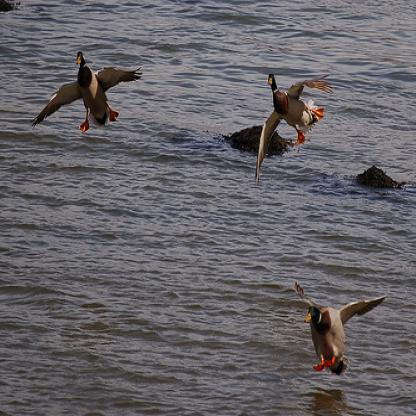bird: (32, 50, 143, 135), (256, 73, 334, 184), (294, 282, 387, 374)
